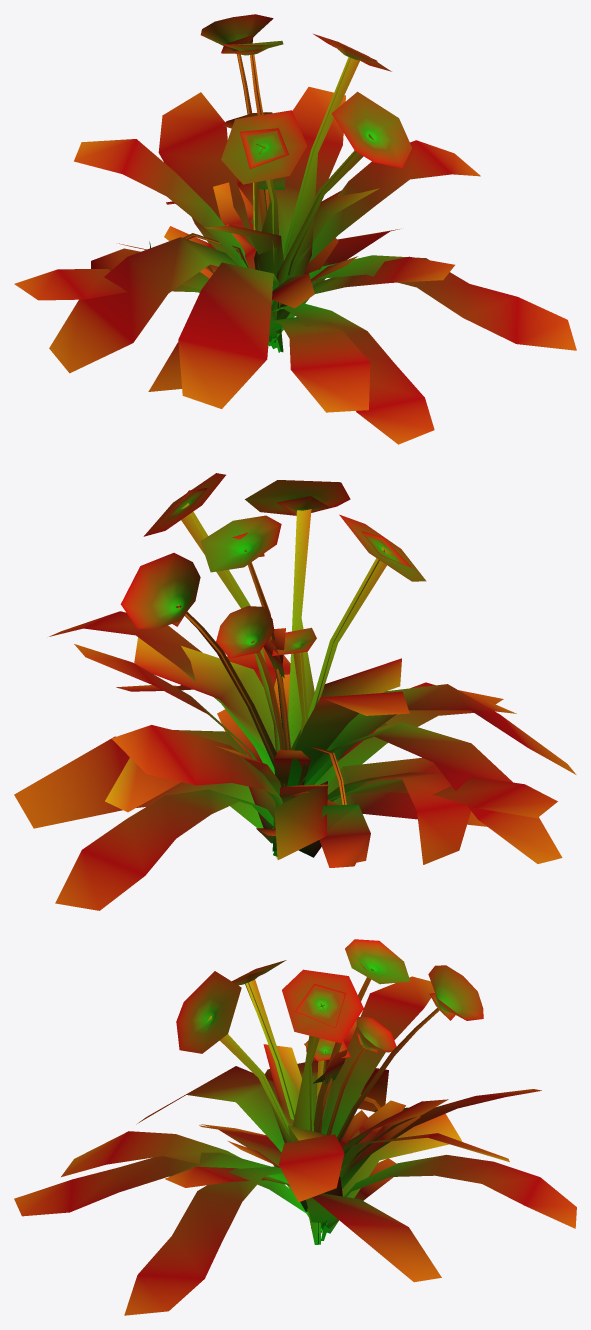
Rendered from Cape Weed_LOD1_Var1_tjmhfcyia.fbx.
3 views of the same model, one above another, from view 1: azimuth 30°, elevation 25°; view 2: azimuth 150°, elevation 25°; view 3: azimuth 270°, elevation 25° (orthographic). The views are drawn at different scales.
Parts seen in each view (by area): view 1: _a055_Var1_LOD1; view 2: _a055_Var1_LOD1; view 3: _a055_Var1_LOD1.
Boxes of the visible parts, x1=… form: _a055_Var1_LOD1: x1=14, y1=14, x2=576, y2=444; _a055_Var1_LOD1: x1=14, y1=473, x2=576, y2=910; _a055_Var1_LOD1: x1=14, y1=939, x2=576, y2=1315.
Size of the model in its own units: 44.01 by 28.13 by 47.9.
